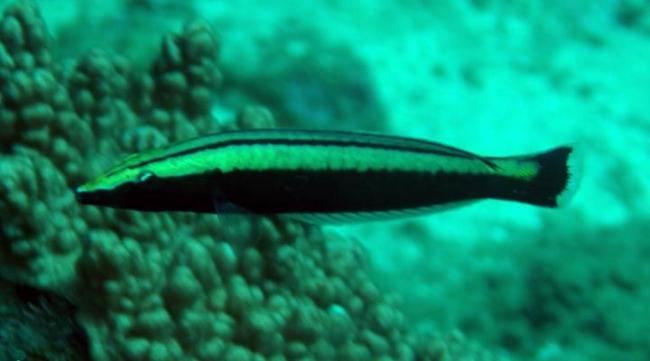fish: (74, 128, 585, 227)
